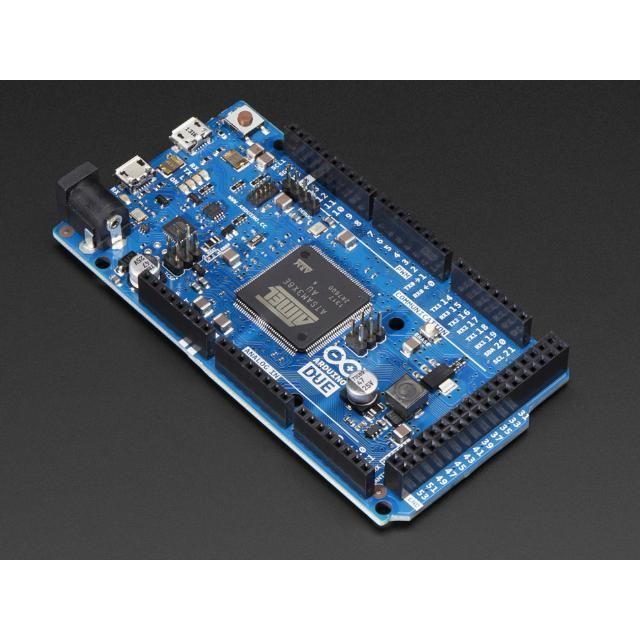Arduino-Due: (54, 101, 569, 526)
